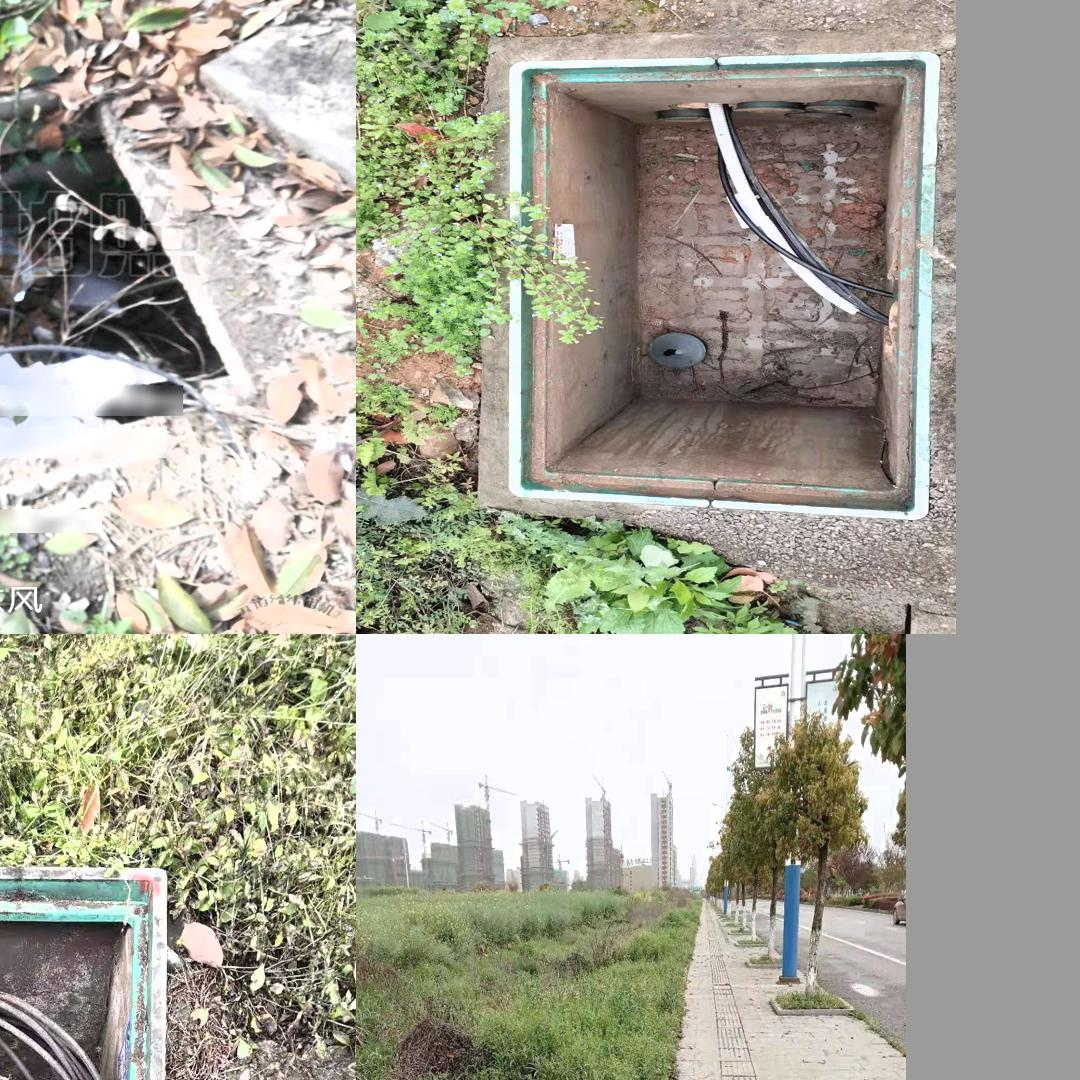lose: (508, 49, 941, 521), (0, 80, 262, 530), (0, 862, 170, 1080)
